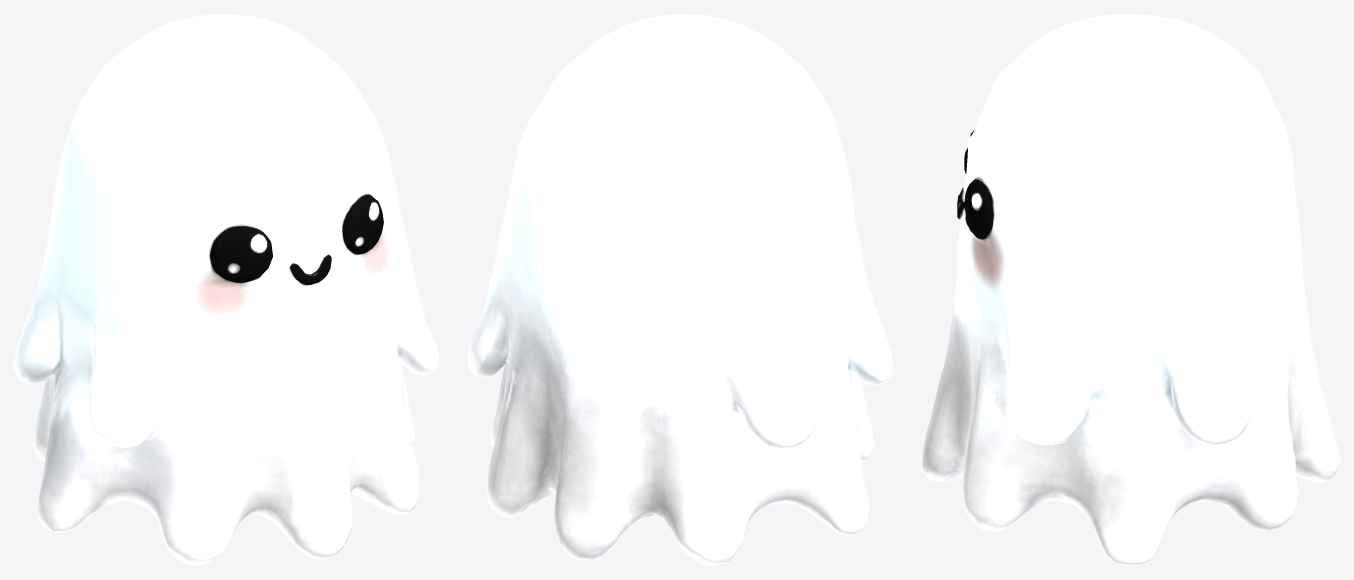
The model's file is lost_soul_v2.glb.
3 views of the same model, side by side, from view 1: azimuth 30°, elevation 25°; view 2: azimuth 150°, elevation 25°; view 3: azimuth 270°, elevation 25° (orthographic).
Size of the model in its own units: 1.59 by 1.91 by 1.6.
1 material, 1 textured.
